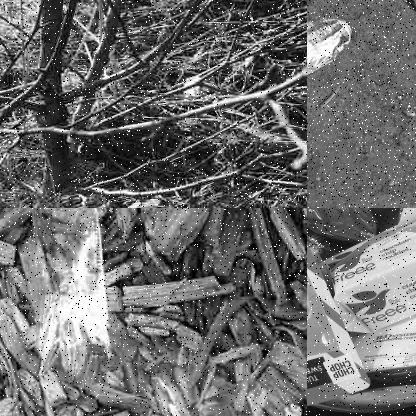cardboard: (307, 208, 369, 410), (329, 208, 415, 321)
metal: (307, 14, 354, 81)
plastic: (31, 208, 117, 381), (96, 194, 207, 207)
